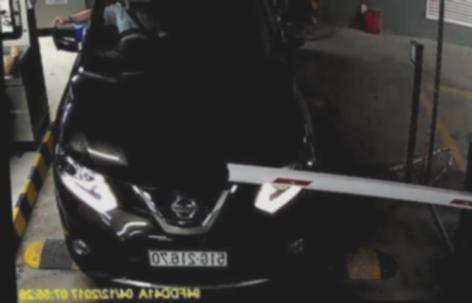License_Plate: (148, 247, 227, 267)
